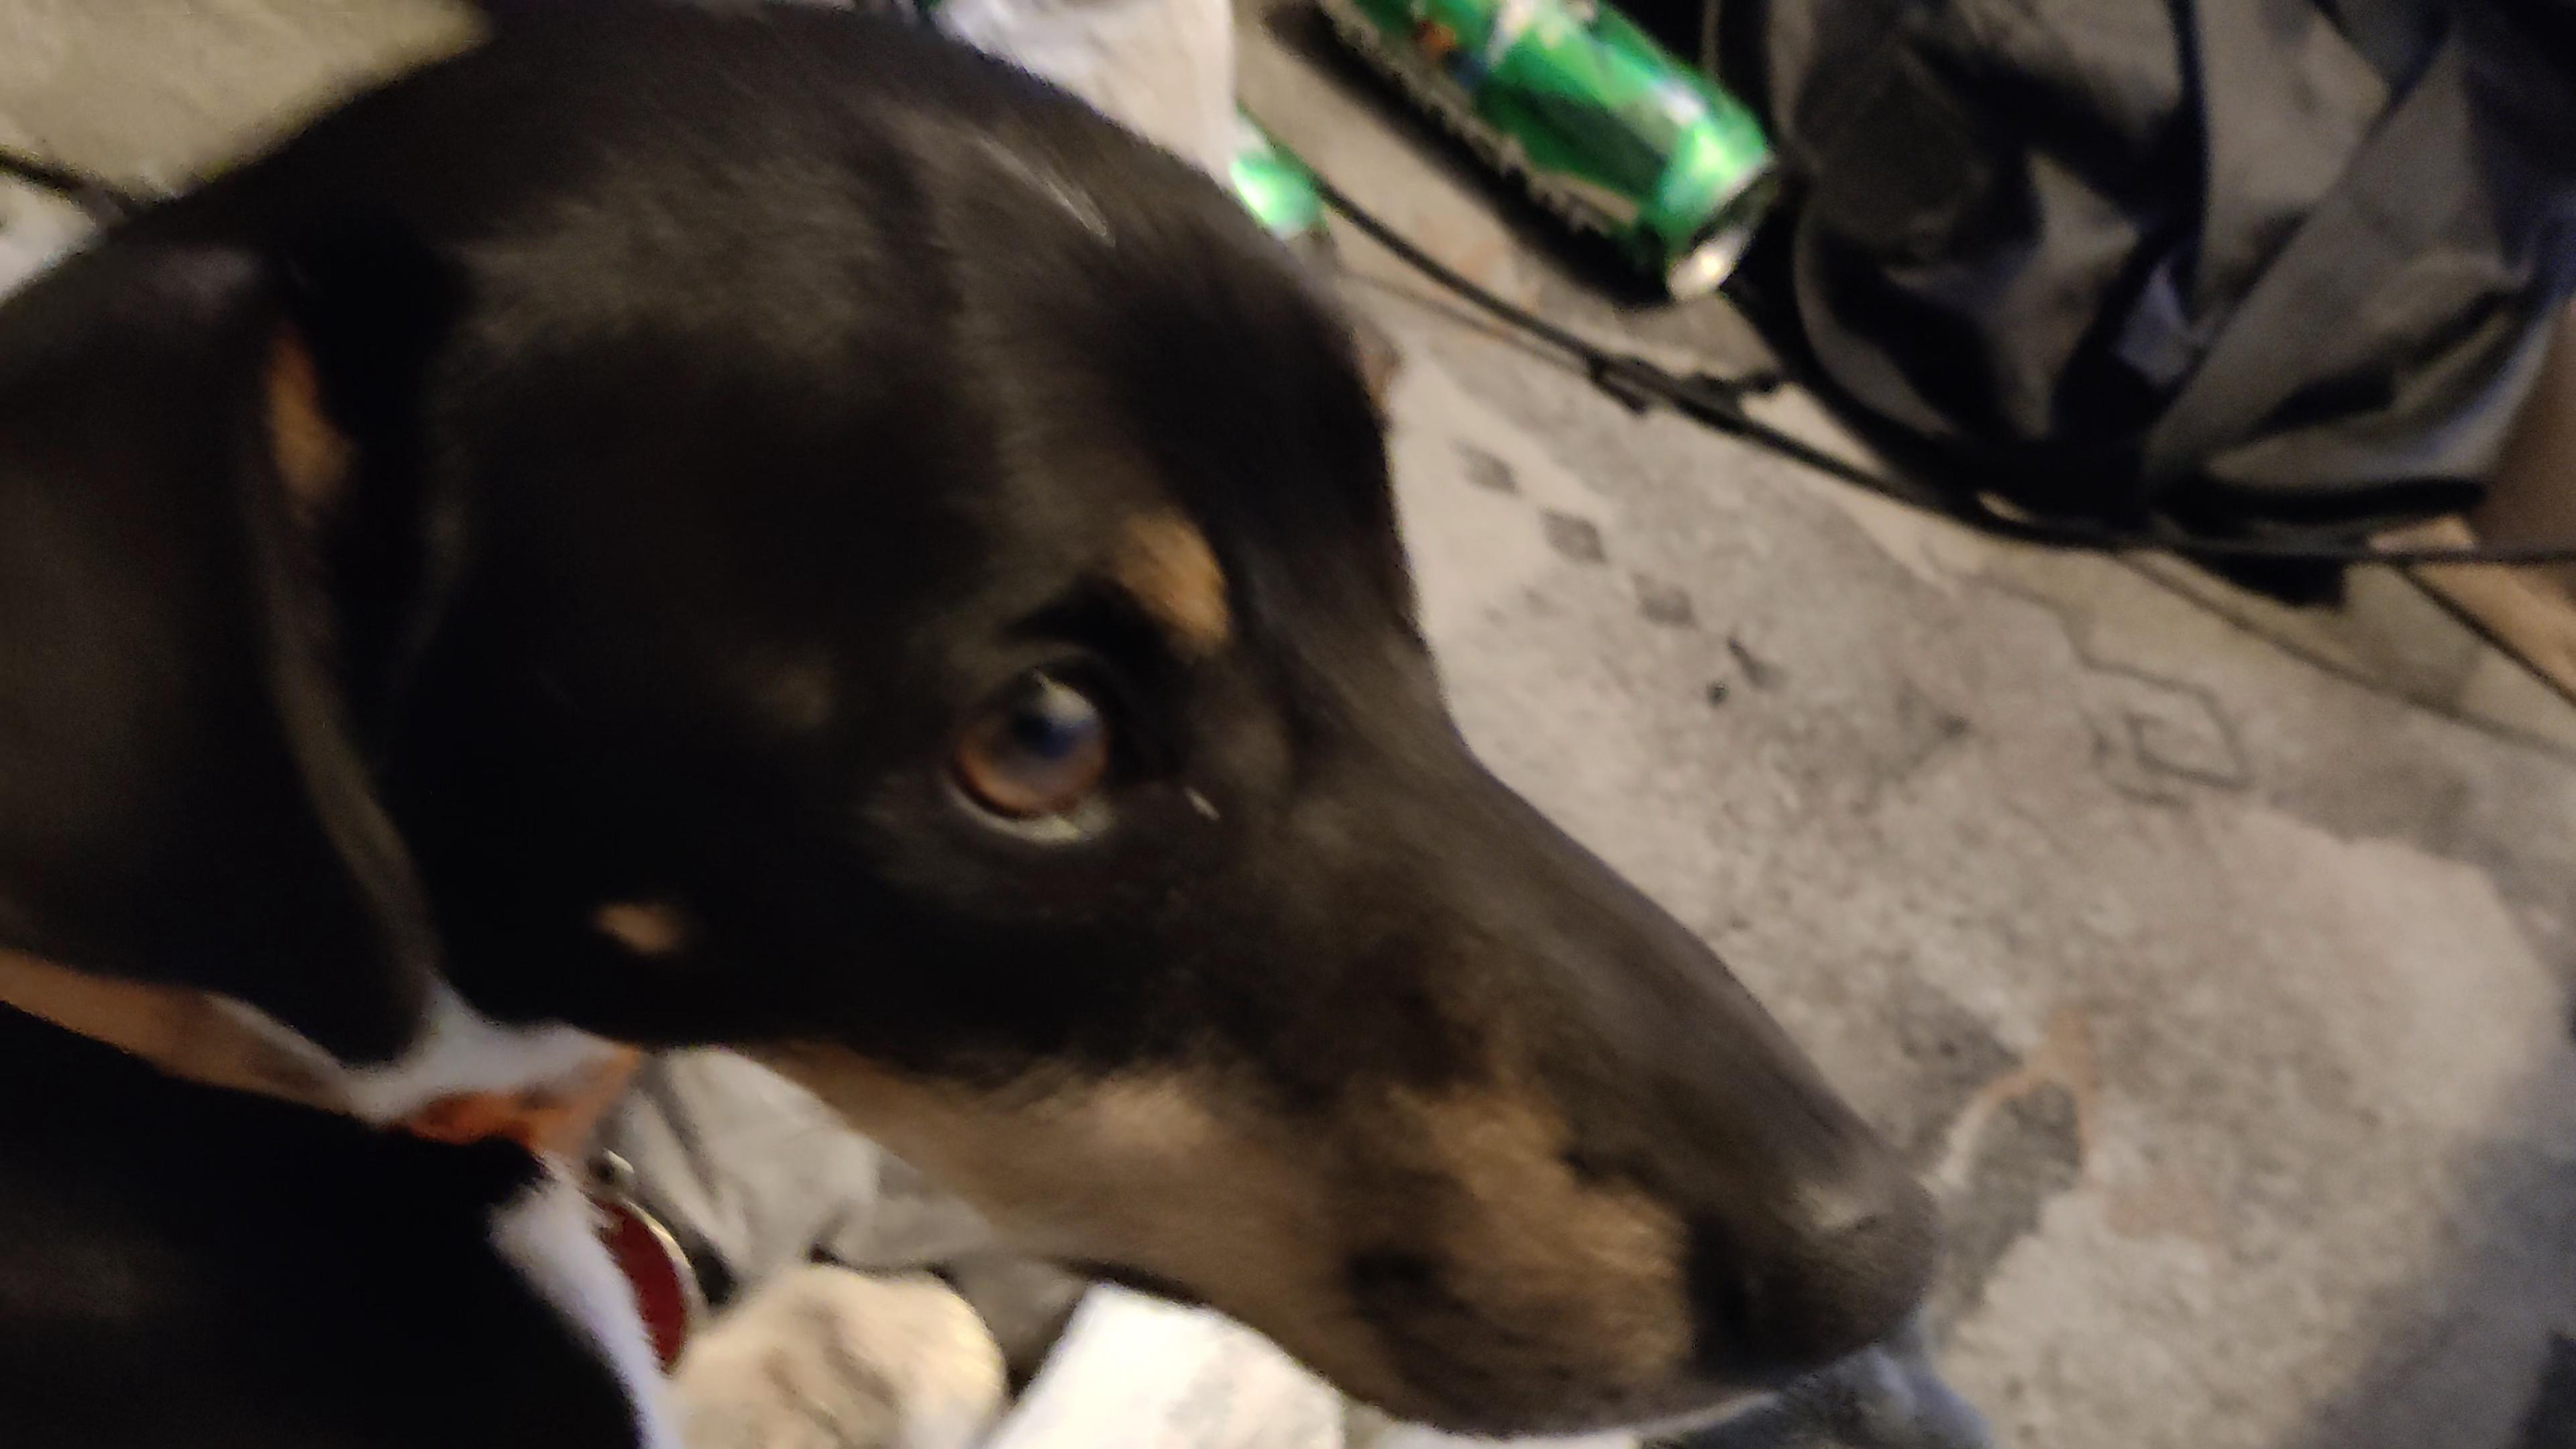Dog: (0, 0, 1987, 1449)
